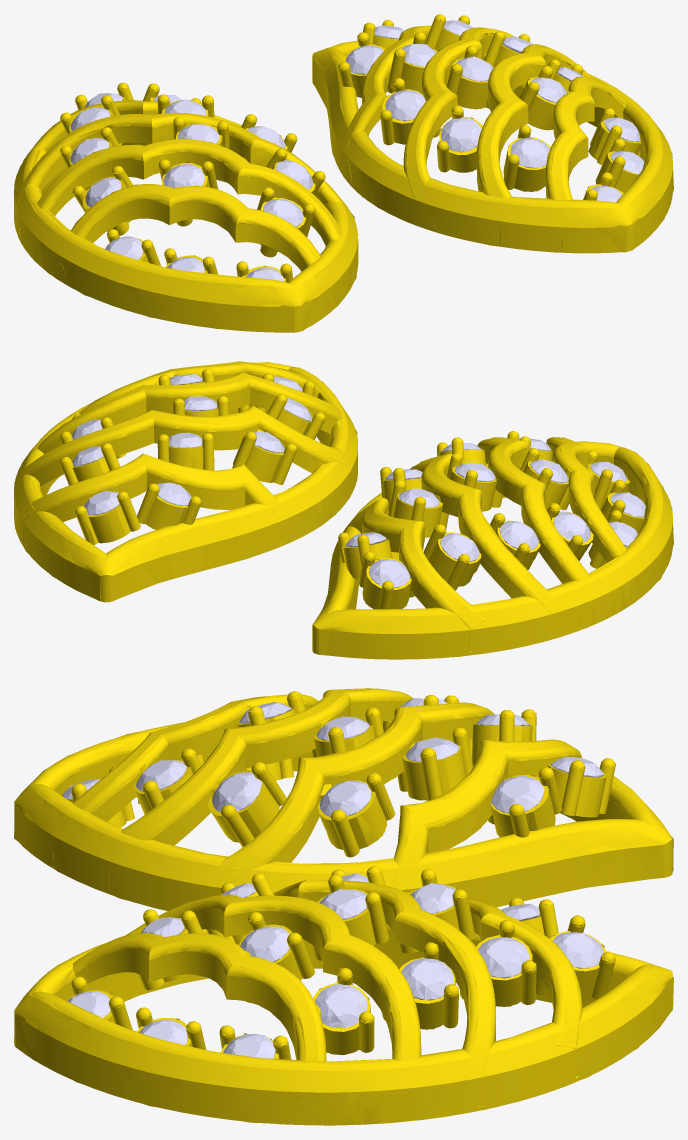
3 views of the same model, one above another, from view 1: azimuth 30°, elevation 25°; view 2: azimuth 150°, elevation 25°; view 3: azimuth 270°, elevation 25° (orthographic). The views are drawn at different scales.
Visible parts, largest first — view 1: highPolyMesh, lowPolyMesh; view 2: highPolyMesh, lowPolyMesh; view 3: highPolyMesh, lowPolyMesh.
Part boxes in pixels (<box>): highPolyMesh: <box>14,14,672,332</box>; lowPolyMesh: <box>14,14,673,332</box>; highPolyMesh: <box>14,361,672,659</box>; lowPolyMesh: <box>14,361,673,659</box>; highPolyMesh: <box>14,688,672,1125</box>; lowPolyMesh: <box>14,688,673,1125</box>.
Size of the model in its own units: 0.0217 by 0.00404 by 0.0164.
